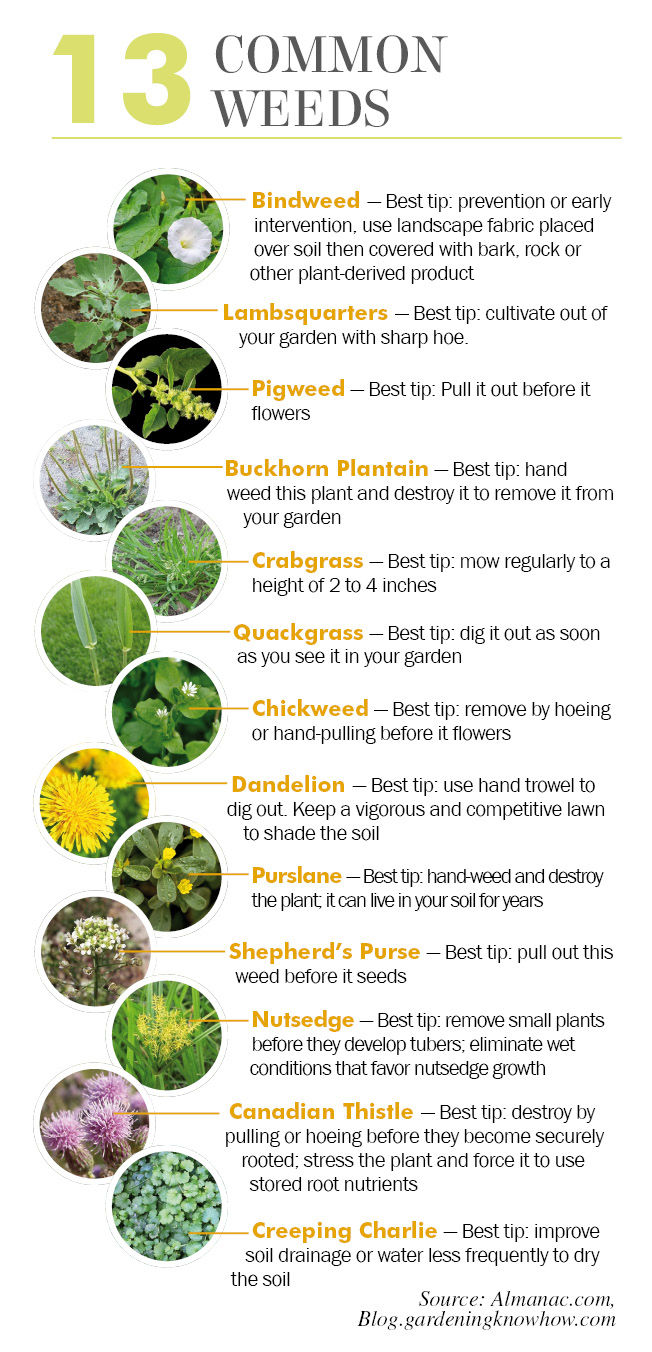crabgrass: (133, 530, 222, 599)
